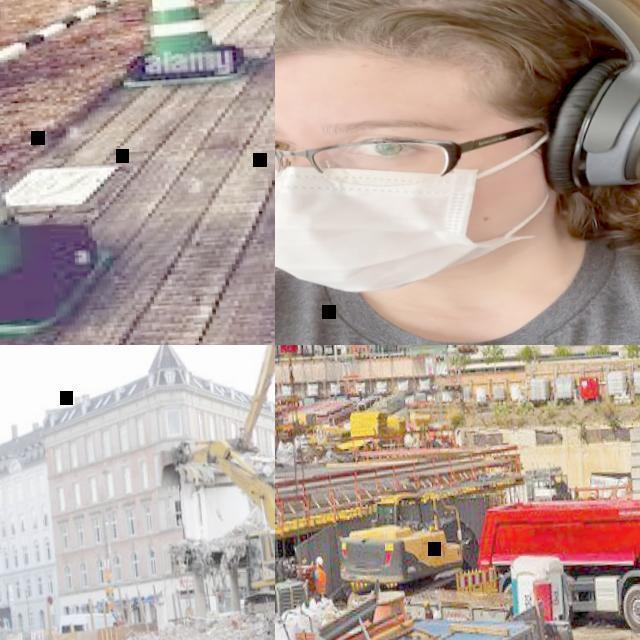helmet: (316, 556, 324, 564)
no_helmet: (275, 0, 640, 86)
